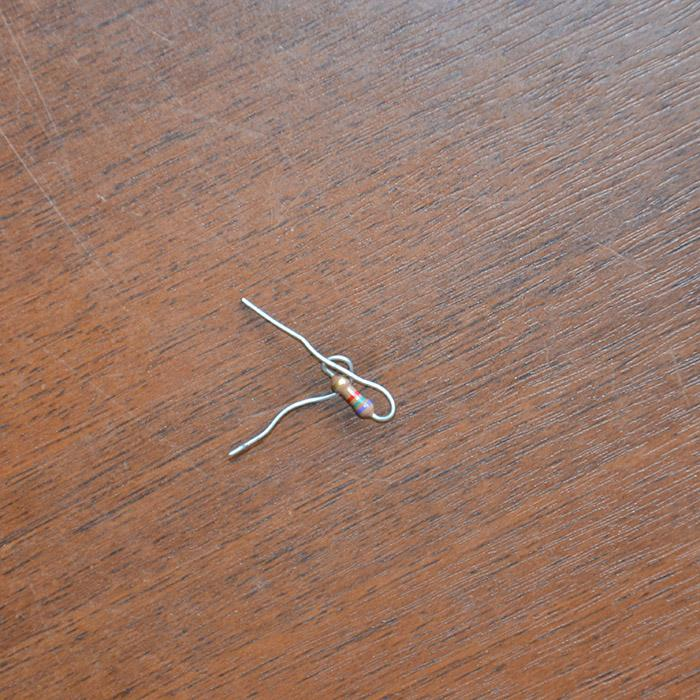resistor: (329, 371, 374, 419)
